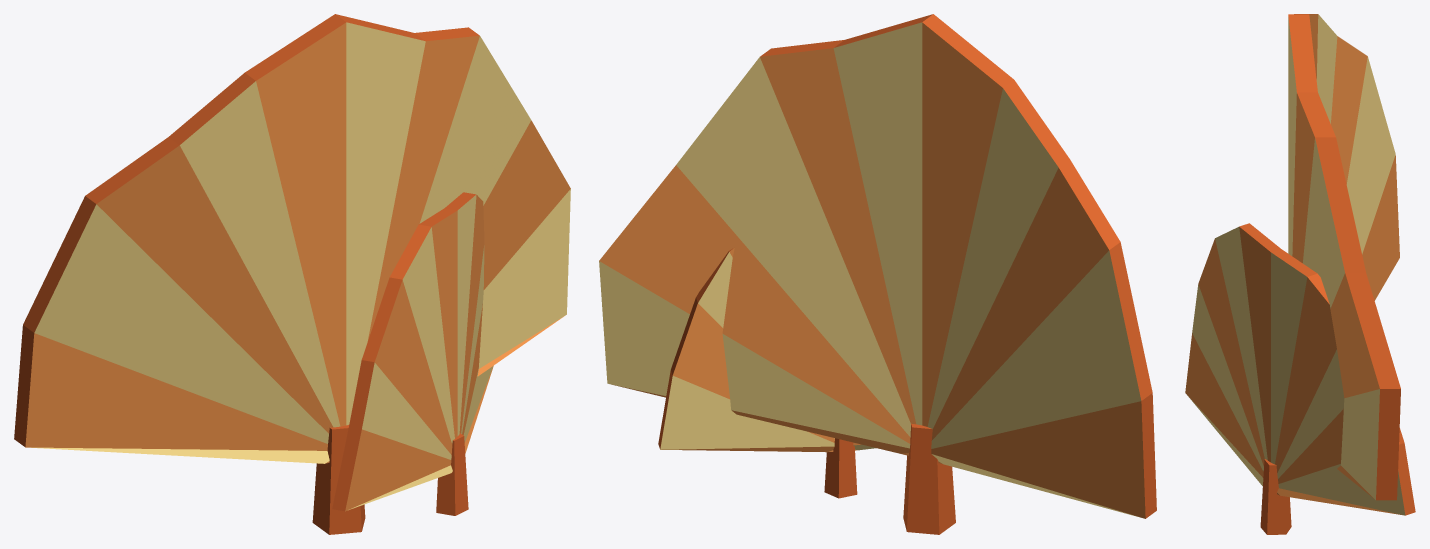
File: coral_fan_orange.fbx
The picture shows the model from 3 angles, left to right: view 1: azimuth 30°, elevation 25°; view 2: azimuth 150°, elevation 25°; view 3: azimuth 270°, elevation 25°; orthographic projection. The views are drawn at different scales.
Visible parts, largest first — view 1: coral_fan_orange; view 2: coral_fan_orange; view 3: coral_fan_orange.
Boxes of the visible parts, <box> form: coral_fan_orange: <box>14,14,570,534</box>; coral_fan_orange: <box>599,14,1156,534</box>; coral_fan_orange: <box>1185,14,1415,534</box>.
Bounding box in the file's own units: 890 × 788 × 350.
1 material, 1 textured.
